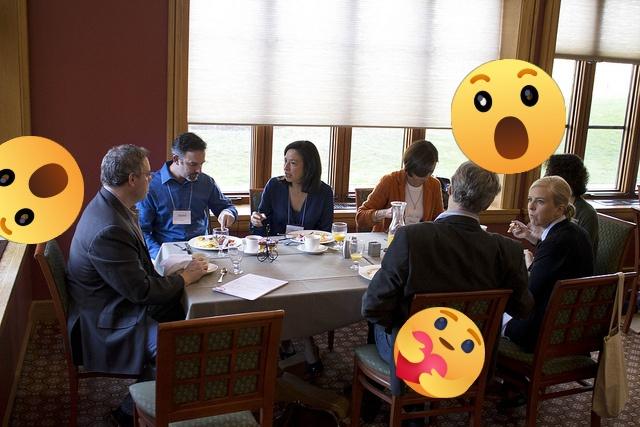care: (394, 307, 485, 398)
wow: (451, 59, 566, 174), (0, 136, 84, 244)
